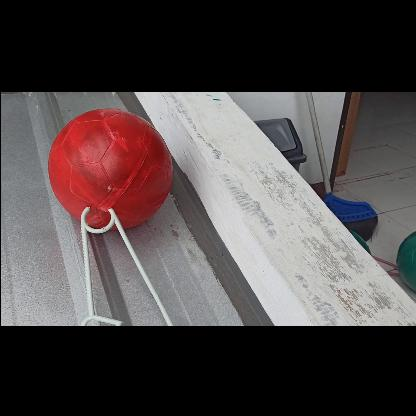red_ball: (46, 106, 170, 230)
